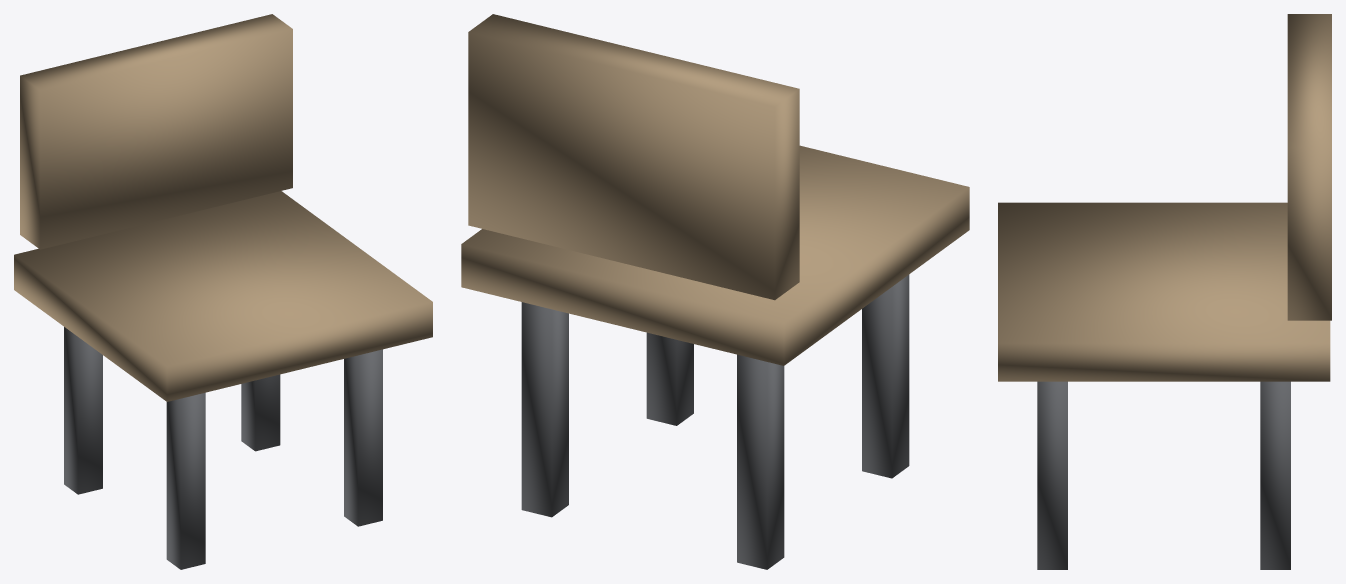
File: school_chair__squat.glb
3 renders of one model, left to right at view 1: azimuth 30°, elevation 25°; view 2: azimuth 150°, elevation 25°; view 3: azimuth 270°, elevation 25°, orthographic. The views are drawn at different scales.
Parts seen in each view (by area): view 1: world; view 2: world; view 3: world.
Part boxes in pixels (<box>): world: <box>14,14,432,569</box>; world: <box>461,14,969,569</box>; world: <box>998,14,1331,569</box>.
Size of the model in its own units: 0.5284 by 0.762 by 0.5295.
